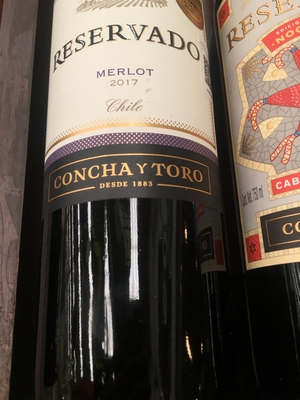reservado merlot: (38, 1, 226, 366)
